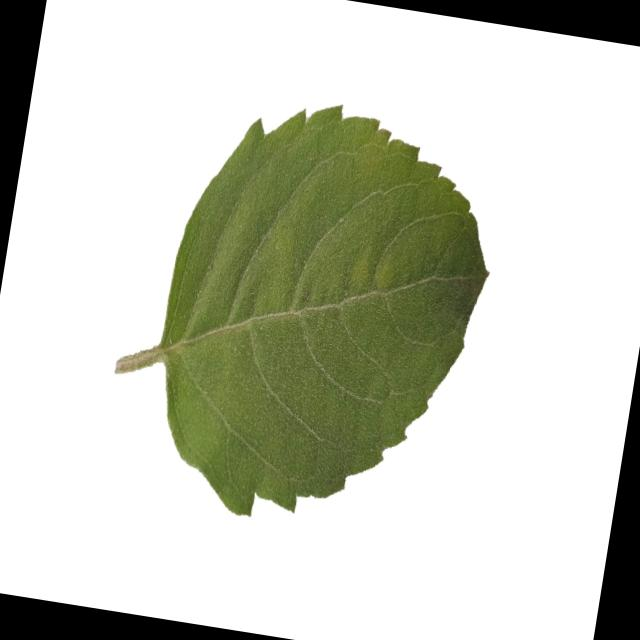tulsi: (91, 75, 512, 552)
